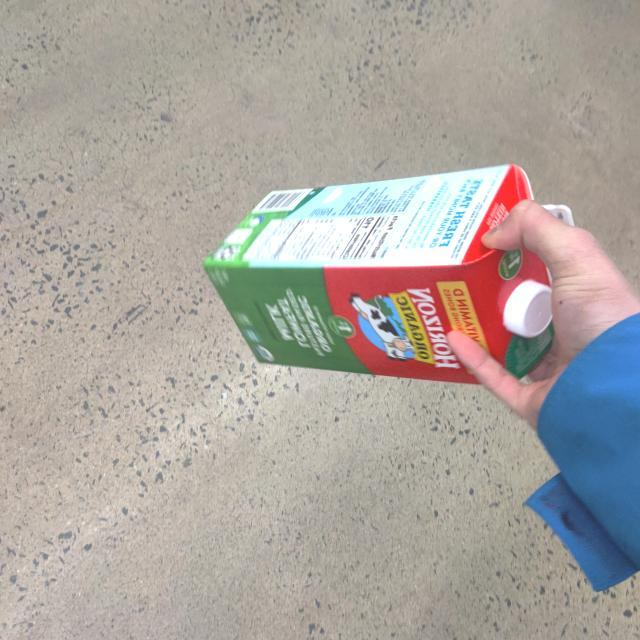Milk: (204, 167, 571, 387)
